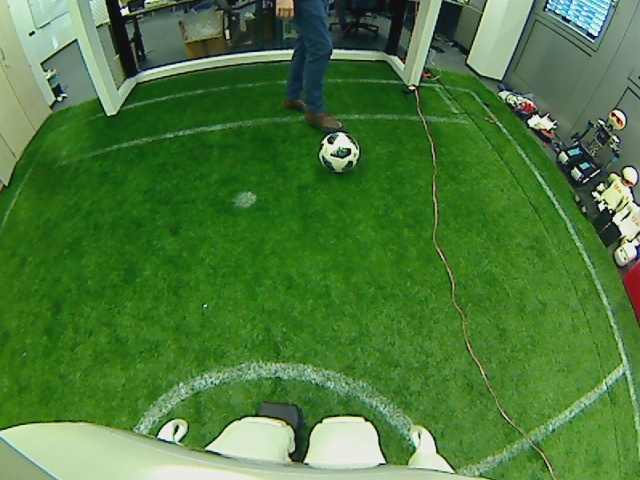ball: (317, 128, 361, 174)
